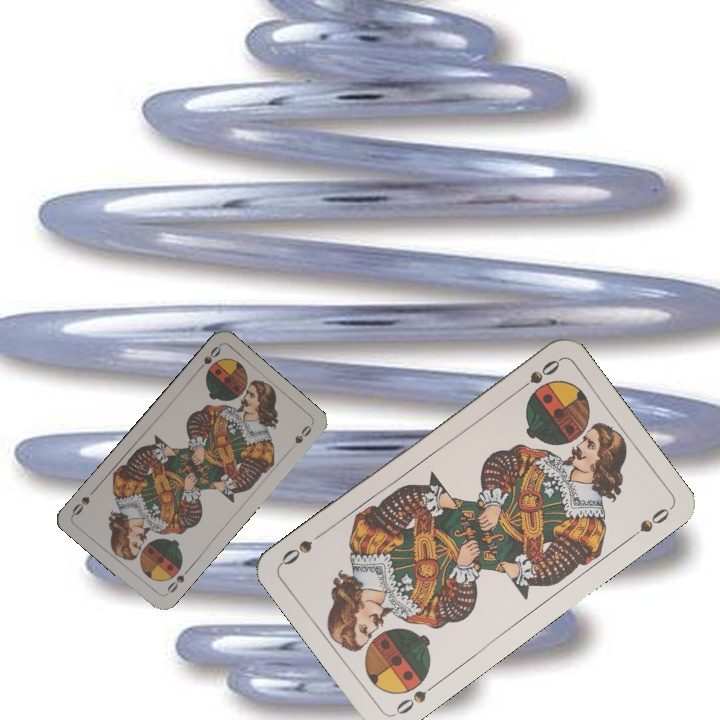SO: (511, 355, 563, 396), (390, 678, 441, 719), (192, 342, 224, 375), (161, 565, 192, 598)
